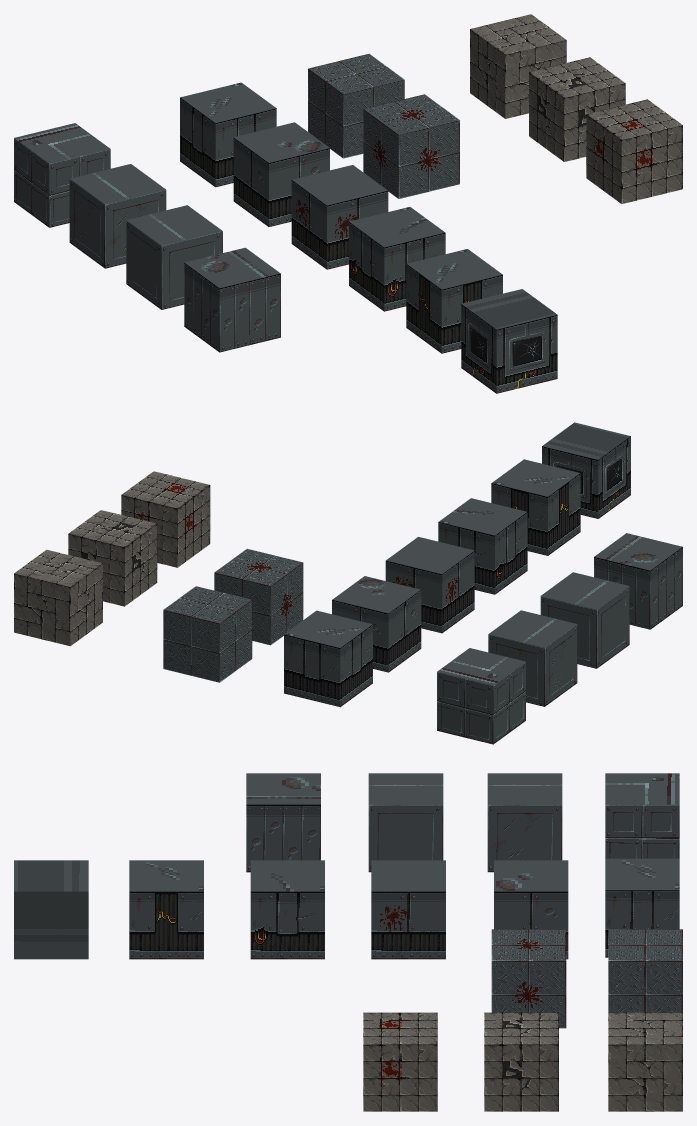
3 renders of one model, top to bottom at view 1: azimuth 30°, elevation 25°; view 2: azimuth 150°, elevation 25°; view 3: azimuth 270°, elevation 25°, orthographic. The views are drawn at different scales.
Parts seen in each view (by area): view 1: InnerWall6, Wall3, TopWall4, Floor2, Wall1, InnerWall2, TopWall3, InnerWall3, InnerWall4, Wall2, TopWall2, TopWall1 (+3 smaller); view 2: Floor1, InnerWall1, Wall1, TopWall1, Wall2, InnerWall3, InnerWall5, Wall3, TopWall4, InnerWall4, TopWall3, TopWall2 (+3 smaller); view 3: Wall1, Wall2, Wall3, InnerWall3, InnerWall5, InnerWall6, InnerWall4, TopWall2, TopWall3, TopWall4, Floor2, TopWall1 (+3 smaller).
Part boxes in pixels (x1,y1,x2,y2): InnerWall6: [461, 289, 557, 393]; Wall3: [586, 99, 682, 203]; TopWall4: [184, 247, 280, 352]; Floor2: [363, 94, 459, 198]; Wall1: [470, 14, 566, 118]; InnerWall2: [233, 122, 329, 226]; TopWall3: [126, 205, 222, 309]; InnerWall3: [291, 165, 388, 269]; InnerWall4: [349, 207, 445, 311]; Wall2: [529, 57, 625, 161]; TopWall2: [69, 164, 166, 268]; TopWall1: [14, 123, 110, 227]; Floor1: [163, 586, 252, 682]; InnerWall1: [284, 610, 372, 707]; Wall1: [14, 549, 102, 646]; TopWall1: [437, 648, 525, 744]; Wall2: [68, 510, 157, 606]; InnerWall3: [385, 537, 474, 633]; InnerWall5: [491, 459, 580, 555]; Wall3: [121, 471, 210, 567]; TopWall4: [594, 533, 682, 629]; InnerWall4: [438, 498, 527, 594]; TopWall3: [540, 572, 629, 668]; TopWall2: [488, 610, 577, 706]; Wall1: [608, 1012, 682, 1111]; Wall2: [484, 1012, 558, 1111]; Wall3: [363, 1012, 437, 1111]; InnerWall3: [371, 860, 445, 959]; InnerWall5: [129, 860, 203, 959]; InnerWall6: [14, 860, 88, 959]; InnerWall4: [250, 860, 324, 959]; TopWall2: [487, 773, 562, 872]; TopWall3: [368, 773, 443, 872]; TopWall4: [246, 773, 320, 872]; Floor2: [491, 929, 566, 1028]; TopWall1: [605, 773, 679, 858].
Bounding box in the file's own units: 16.94 × 2.12 × 17.95.
15 materials, 15 textured.
